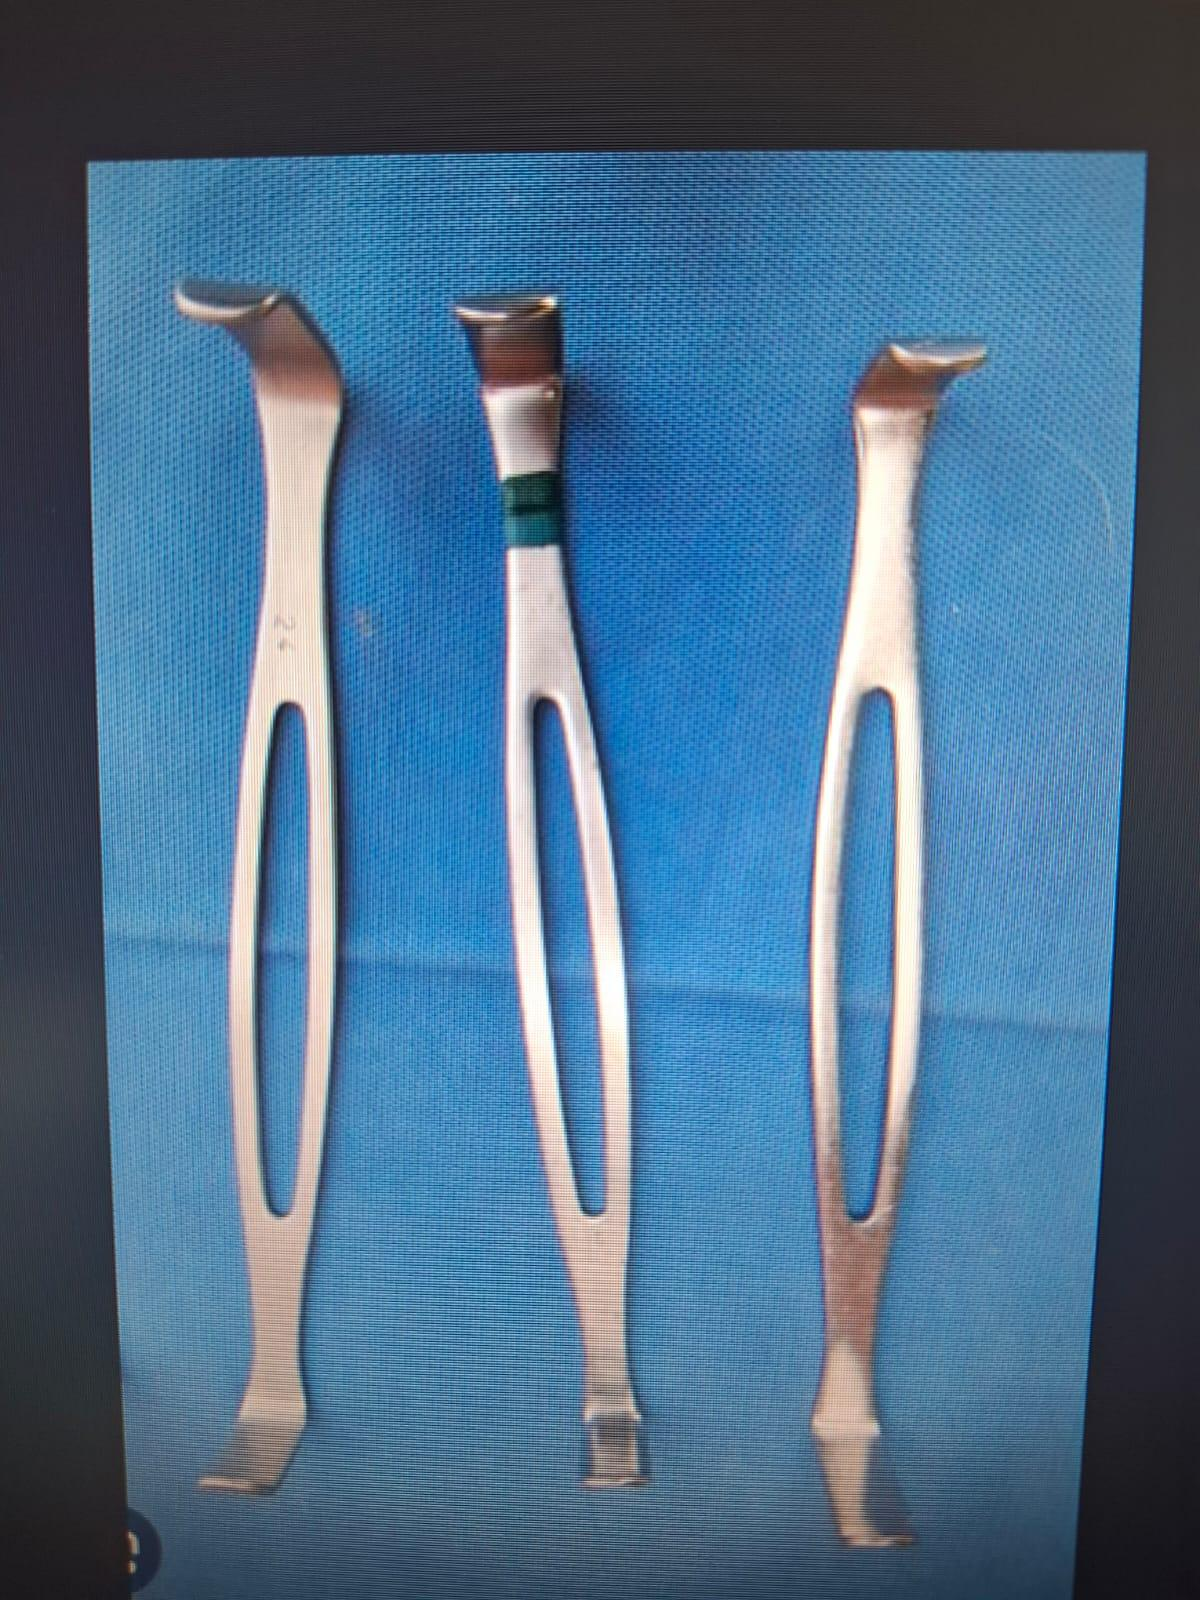Army Navy Retractor: (137, 238, 427, 1503), (775, 310, 1010, 1560)
